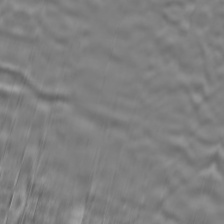cavities: (52, 127, 224, 224)
